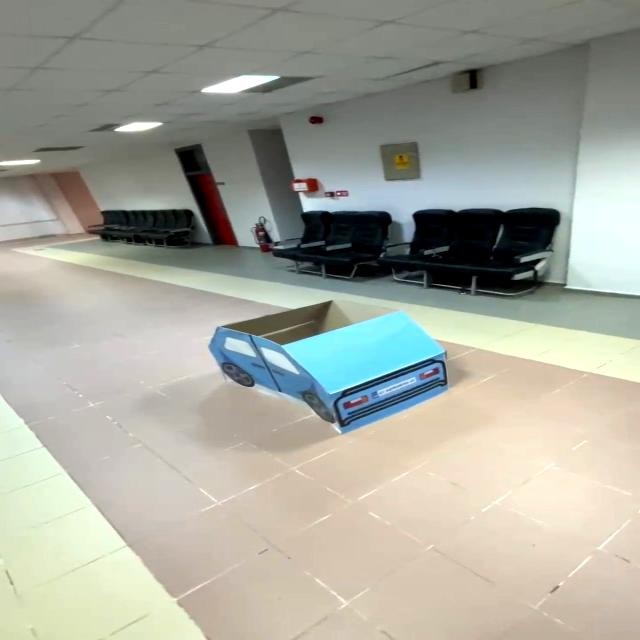blue_car: (192, 292, 478, 447)
